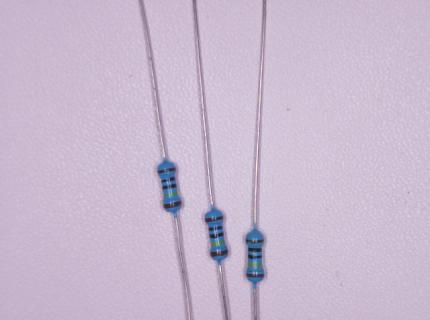Black band: (161, 176, 176, 183), (210, 232, 224, 239), (162, 184, 177, 190), (248, 254, 262, 260), (208, 226, 223, 231), (248, 247, 262, 252)
Brown band: (163, 200, 182, 209), (158, 167, 176, 174), (210, 250, 228, 257), (205, 216, 223, 222), (246, 238, 264, 243), (246, 273, 264, 278)
Yellow band: (163, 191, 178, 198), (211, 240, 225, 245), (248, 263, 262, 266)
